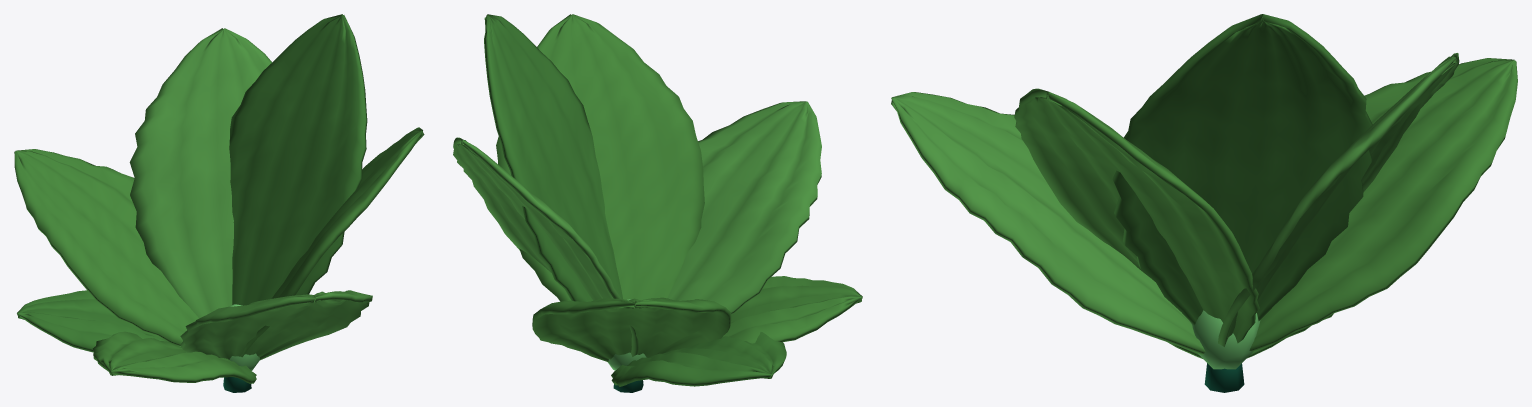
File: mint-crown.glb
3 renders of one model, left to right at view 1: azimuth 30°, elevation 25°; view 2: azimuth 150°, elevation 25°; view 3: azimuth 270°, elevation 25°, orthographic. The views are drawn at different scales.
Visible parts, largest first — view 1: Mint crown blade 02, Mint crown blade 01, Mint crown blade 00, Mint crown blade 04, Mint crown blade 06, Mint crown blade 03, Mint crown blade 05, Mint crown central stalk; view 2: Mint crown blade 03, Mint crown blade 04, Mint crown blade 02, Mint crown blade 00, Mint crown blade 01, Mint crown blade 05, Mint crown blade 06, Young mint bud; view 3: Mint crown blade 02, Mint crown blade 00, Mint crown blade 04, Mint crown blade 03, Mint crown blade 01, Young mint bud, Mint crown central stalk.
Part boxes in pixels (box(x1,y1,x2,y2)): Mint crown blade 02: box(229, 14, 367, 305); Mint crown blade 01: box(129, 28, 271, 318); Mint crown blade 00: box(14, 149, 198, 345); Mint crown blade 04: box(180, 290, 372, 360); Mint crown blade 06: box(92, 331, 256, 383); Mint crown blade 03: box(240, 127, 424, 357); Mint crown blade 05: box(17, 290, 180, 352); Mint crown central stalk: box(223, 377, 251, 392); Mint crown blade 03: box(496, 14, 704, 301); Mint crown blade 04: box(667, 101, 821, 314); Mint crown blade 02: box(484, 14, 622, 301); Mint crown blade 00: box(532, 297, 731, 362); Mint crown blade 01: box(453, 137, 639, 356); Mint crown blade 05: box(611, 332, 786, 386); Mint crown blade 06: box(723, 276, 862, 343); Young mint bud: box(607, 299, 646, 370); Mint crown blade 02: box(1112, 14, 1372, 325); Mint crown blade 00: box(1249, 58, 1517, 351); Mint crown blade 04: box(891, 92, 1205, 354); Mint crown blade 03: box(1014, 88, 1259, 343); Mint crown blade 01: box(1218, 53, 1459, 346); Young mint bud: box(1189, 310, 1260, 369); Mint crown central stalk: box(1204, 363, 1244, 392).
Size of the model in its own units: 2.97 by 2.99 by 3.79.
